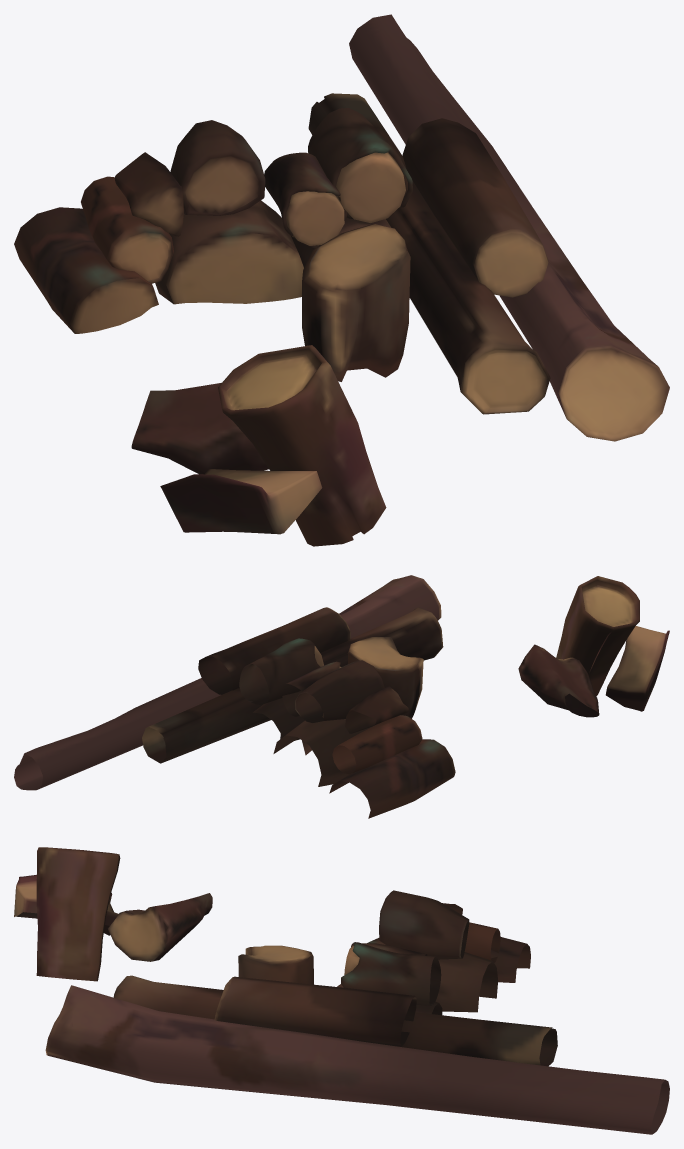
Rendered from Beach_Tavern_Logs.glb.
3 views of the same model, one above another, from view 1: azimuth 30°, elevation 25°; view 2: azimuth 150°, elevation 25°; view 3: azimuth 270°, elevation 25° (orthographic). The views are drawn at different scales.
Parts seen in each view (by area): view 1: Object_2.003; view 2: Object_2.003; view 3: Object_2.003.
Part boxes in pixels (box(x1,y1,x2,y2)): Object_2.003: box(14, 14, 669, 546); Object_2.003: box(14, 575, 669, 818); Object_2.003: box(14, 847, 669, 1134).
Size of the model in its own units: 21.31 by 6 by 26.69.
Materials: 1 (1 with a texture image).
